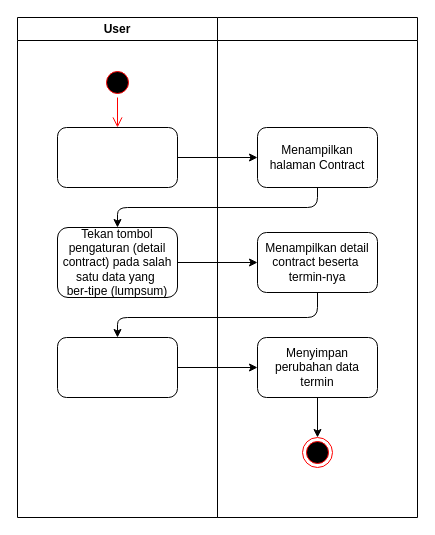
The diagram is 435 pixels wide and 535 high, and some of its shapes have lost their labels. Each missing label, with the box of its shape:
Membuka halaman Contract: (56, 126, 178, 188)
Memilih tombol hapus pada fitur termin di halaman detail contract: (56, 336, 178, 398)
Sistem: (216, 16, 418, 518)
